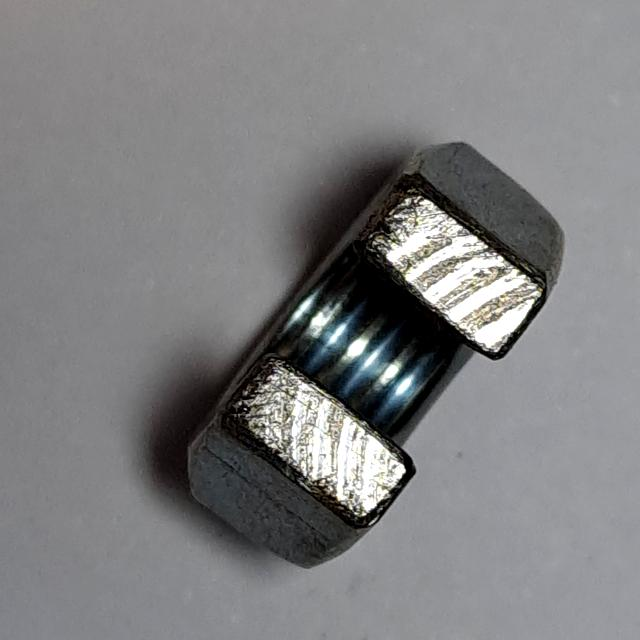Side-Fracture: (168, 136, 586, 587)
